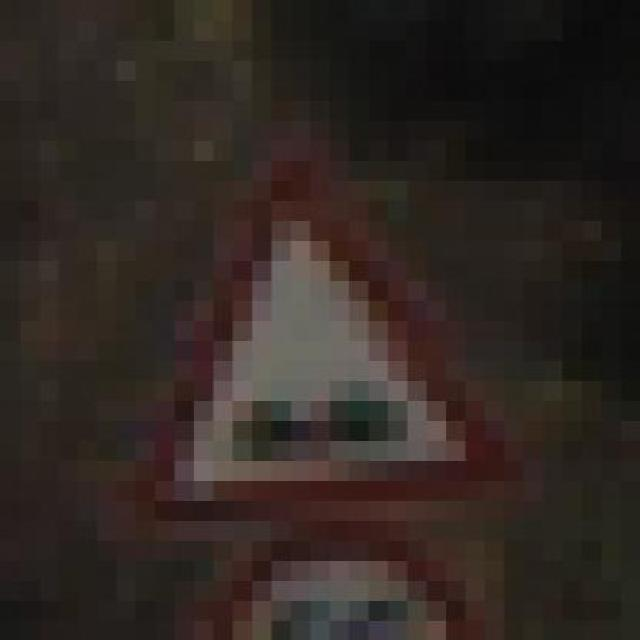Uneven Road: (97, 100, 505, 520)
